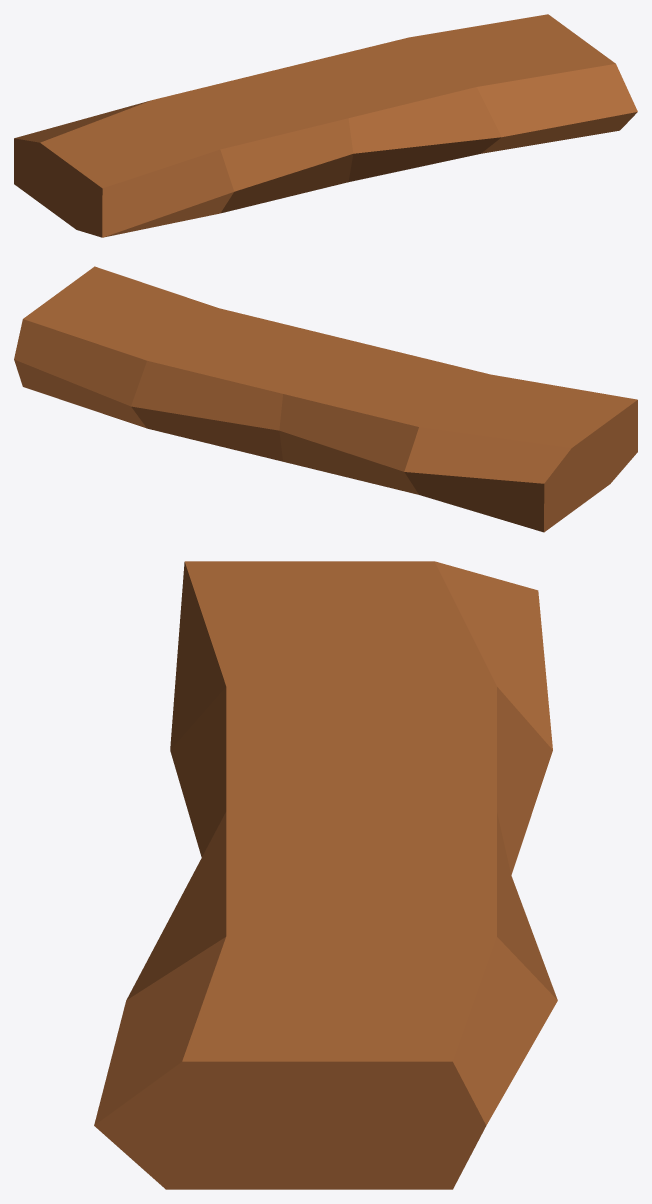
File: Log 0.fbx
3 views of the same model, one above another, from view 1: azimuth 30°, elevation 25°; view 2: azimuth 150°, elevation 25°; view 3: azimuth 270°, elevation 25° (orthographic). The views are drawn at different scales.
Visible parts, largest first — view 1: Log.002; view 2: Log.002; view 3: Log.002.
Boxes of the visible parts, x1,y1,x2,y2 form: Log.002: (14, 14, 637, 237); Log.002: (14, 266, 637, 532); Log.002: (94, 561, 557, 1189).
Bounding box in the file's own units: 208 × 24.76 × 81.34.
